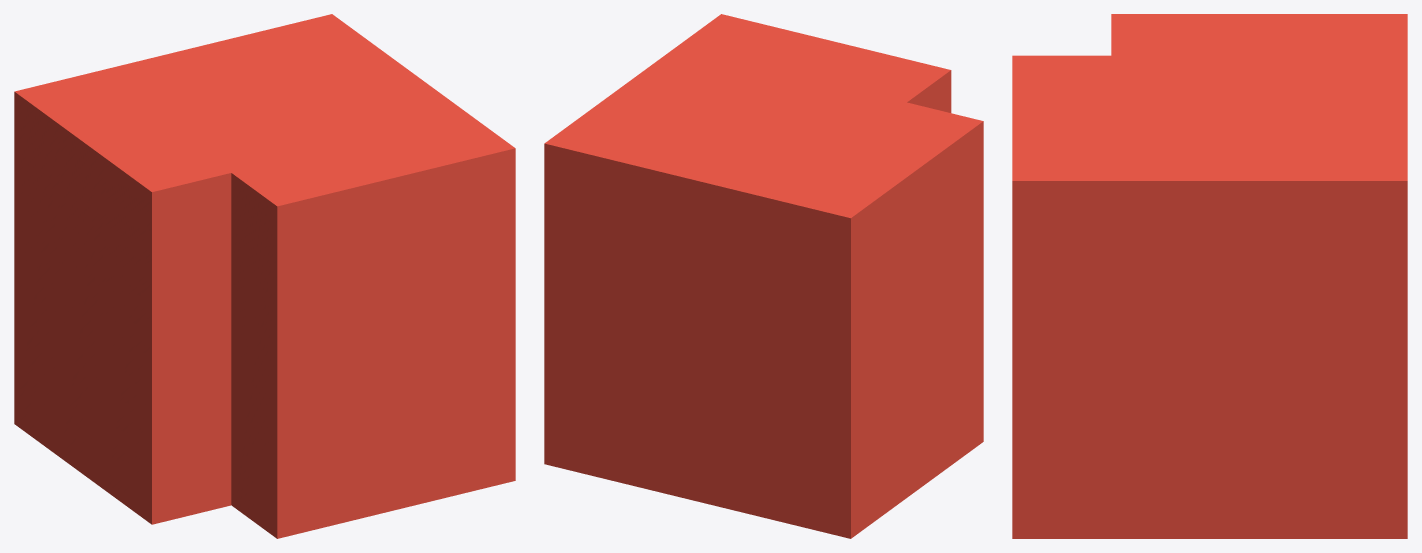
Rendered from Wall_Mid_05.fbx.
3 renders of one model, left to right at view 1: azimuth 30°, elevation 25°; view 2: azimuth 150°, elevation 25°; view 3: azimuth 270°, elevation 25°, orthographic. The views are drawn at different scales.
Visible parts, largest first — view 1: Cube.326; view 2: Cube.326; view 3: Cube.326.
Boxes of the visible parts, left/top/right/bottom form: Cube.326: left=14, top=14, right=515, bottom=538; Cube.326: left=544, top=14, right=983, bottom=538; Cube.326: left=1012, top=14, right=1407, bottom=538.
Size of the model in its own units: 100 by 100 by 100.
